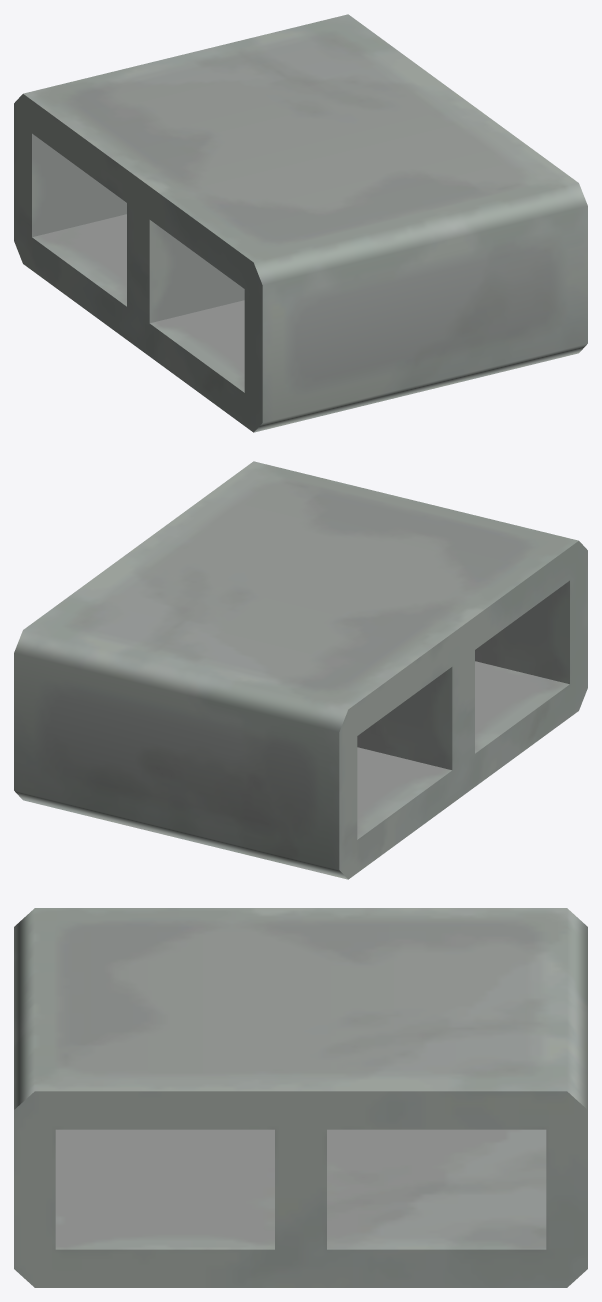
The model's file is Prfb_Brick02.fbx.
The picture shows the model from 3 angles, top to bottom: view 1: azimuth 30°, elevation 25°; view 2: azimuth 150°, elevation 25°; view 3: azimuth 270°, elevation 25°; orthographic projection. The views are drawn at different scales.
Parts seen in each view (by area): view 1: Mat_StreetAssets01_2; view 2: Mat_StreetAssets01_2; view 3: Mat_StreetAssets01_2.
Part boxes in pixels (<box>): Mat_StreetAssets01_2: <box>14,14,587,432</box>; Mat_StreetAssets01_2: <box>14,461,587,879</box>; Mat_StreetAssets01_2: <box>14,908,587,1287</box>.
Size of the model in its own units: 0.8154 by 0.4077 by 1.08.
Materials: 1 (1 with a texture image).
